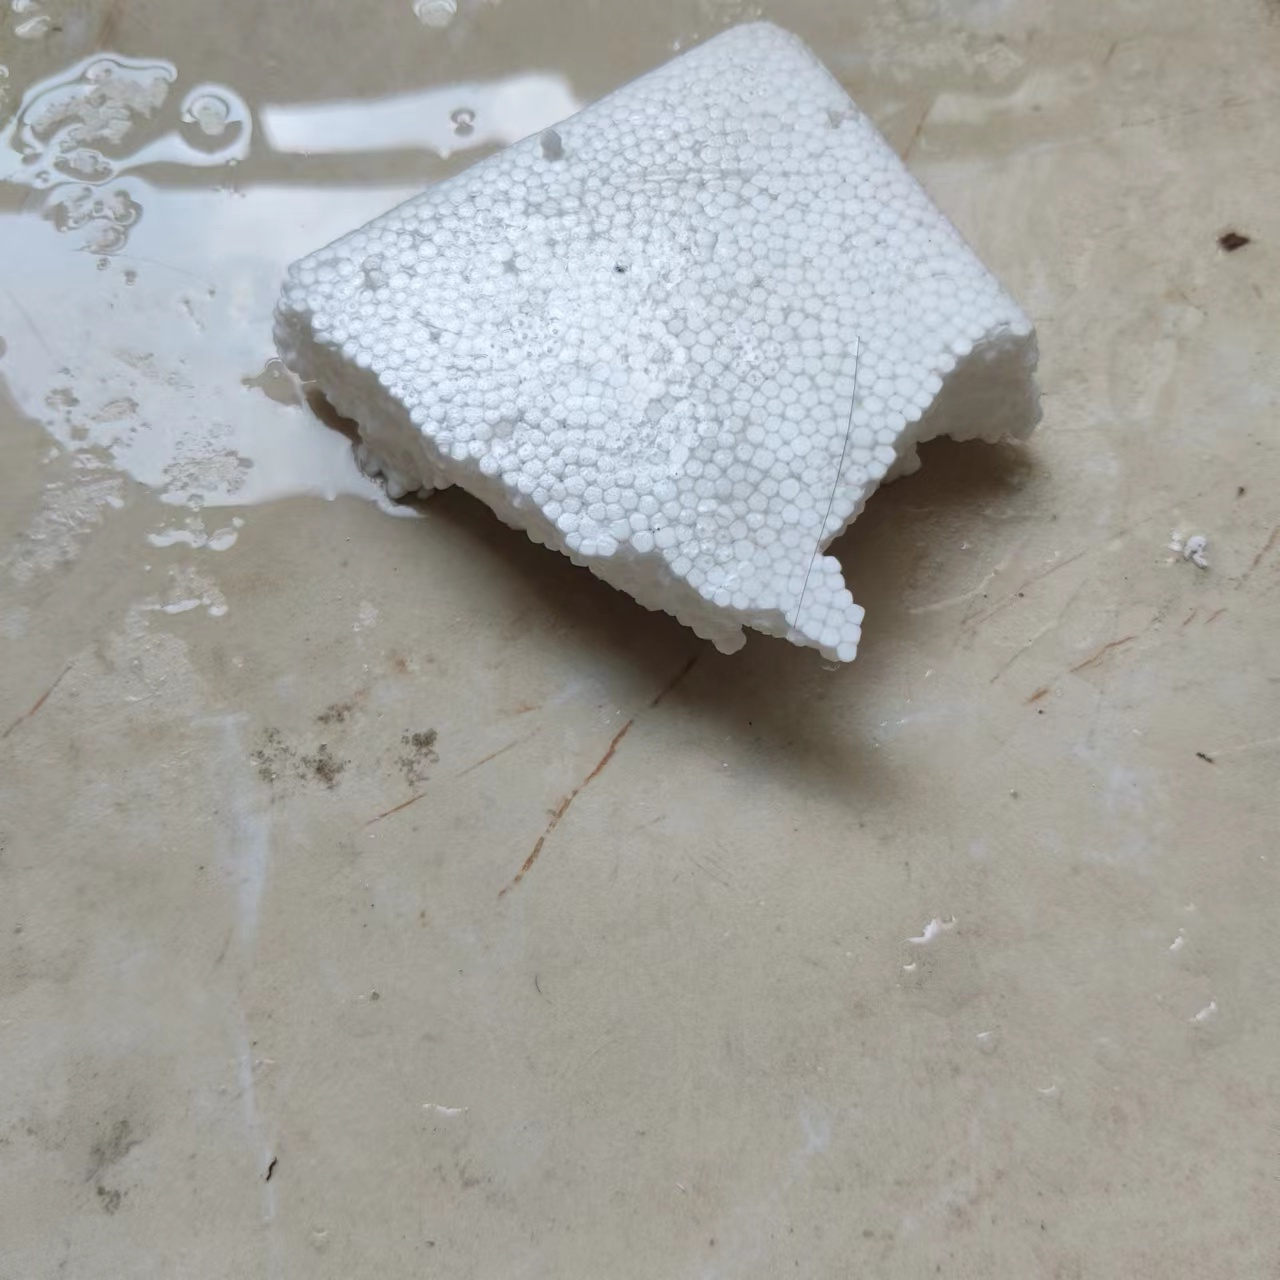5/可回收垃圾/泡沫: (267, 20, 1046, 670)
